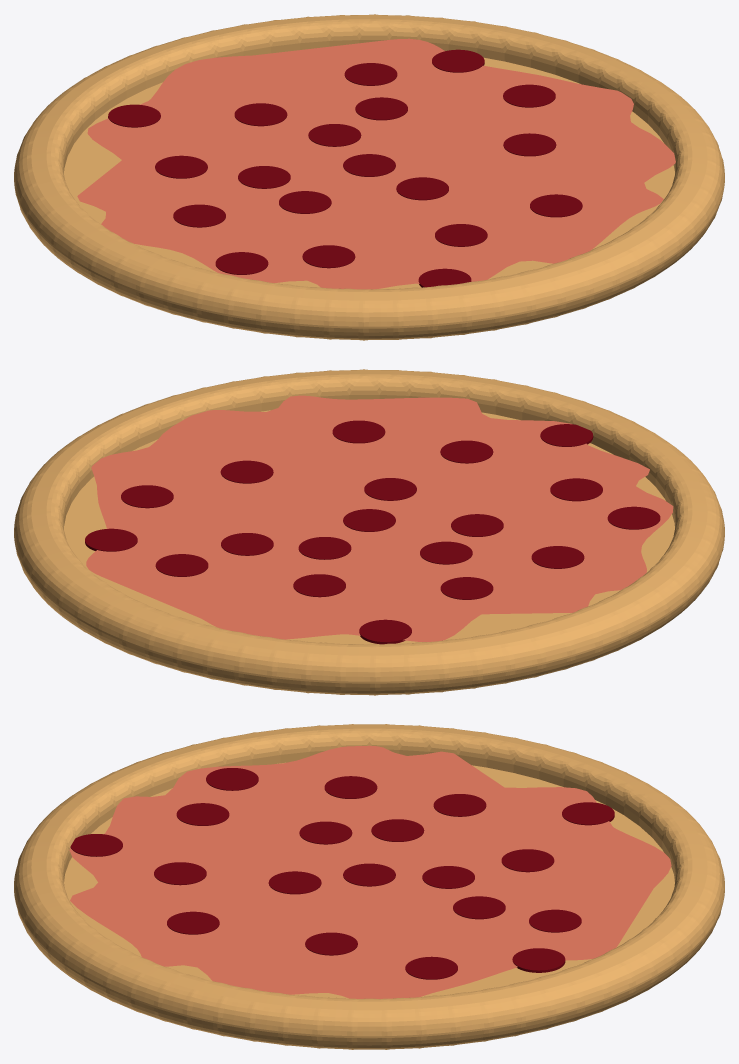
Rendered from pws.fbx.
3 views of the same model, one above another, from view 1: azimuth 30°, elevation 25°; view 2: azimuth 150°, elevation 25°; view 3: azimuth 270°, elevation 25° (orthographic).
Visible parts, largest first — view 1: pws; view 2: pws; view 3: pws.
Part boxes in pixels (left/top/right/bottom): pws: left=14, top=14, right=724, bottom=340; pws: left=14, top=369, right=724, bottom=695; pws: left=14, top=724, right=724, bottom=1049.
Bounding box in the file's own units: 232 × 17.89 × 232.
